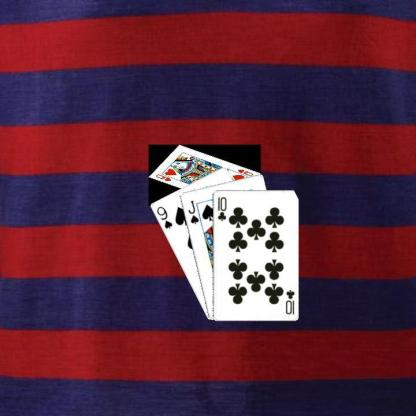10C: (282, 287, 296, 316), (215, 194, 227, 222)
9S: (154, 204, 173, 230)
JS: (185, 198, 200, 225)
